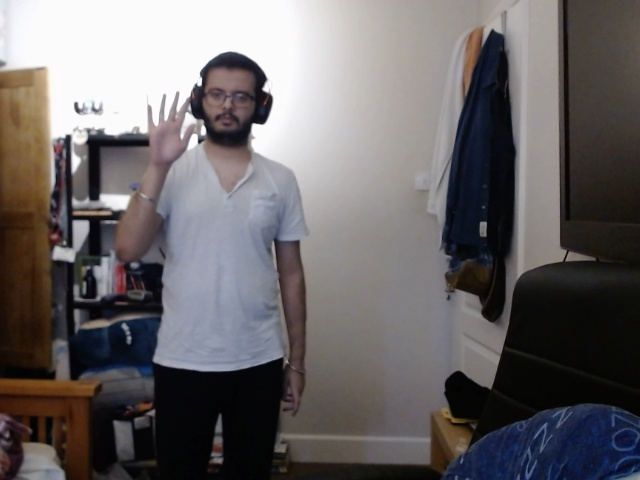Hello: (136, 87, 201, 174)
